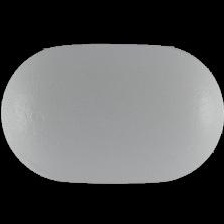0781-5626: (0, 0, 224, 224)
